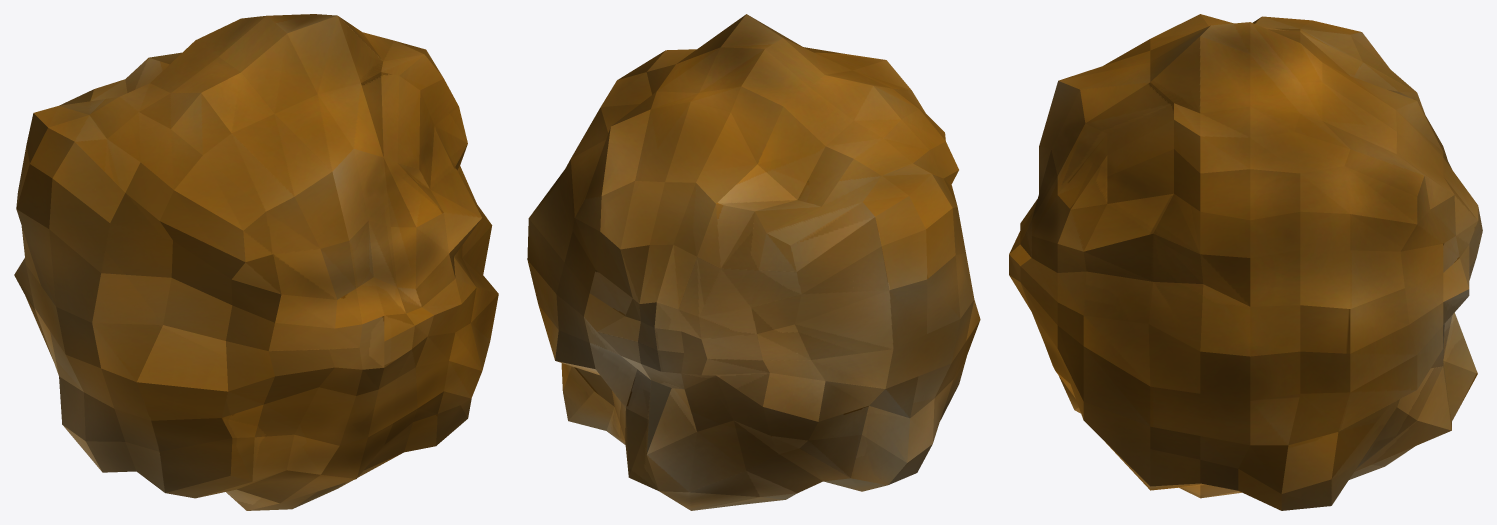
File: rock.fbx
3 renders of one model, left to right at view 1: azimuth 30°, elevation 25°; view 2: azimuth 150°, elevation 25°; view 3: azimuth 270°, elevation 25°, orthographic. The views are drawn at different scales.
Parts seen in each view (by area): view 1: 立方体; view 2: 立方体; view 3: 立方体.
Boxes of the visible parts, left/top/right/bottom form: 立方体: left=14, top=14, right=498, bottom=510; 立方体: left=527, top=14, right=980, bottom=510; 立方体: left=1009, top=14, right=1482, bottom=510.
Size of the model in its own units: 193 by 213 by 192.
1 material, 1 textured.
